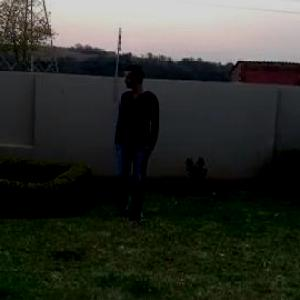follow: (104, 58, 157, 239)
